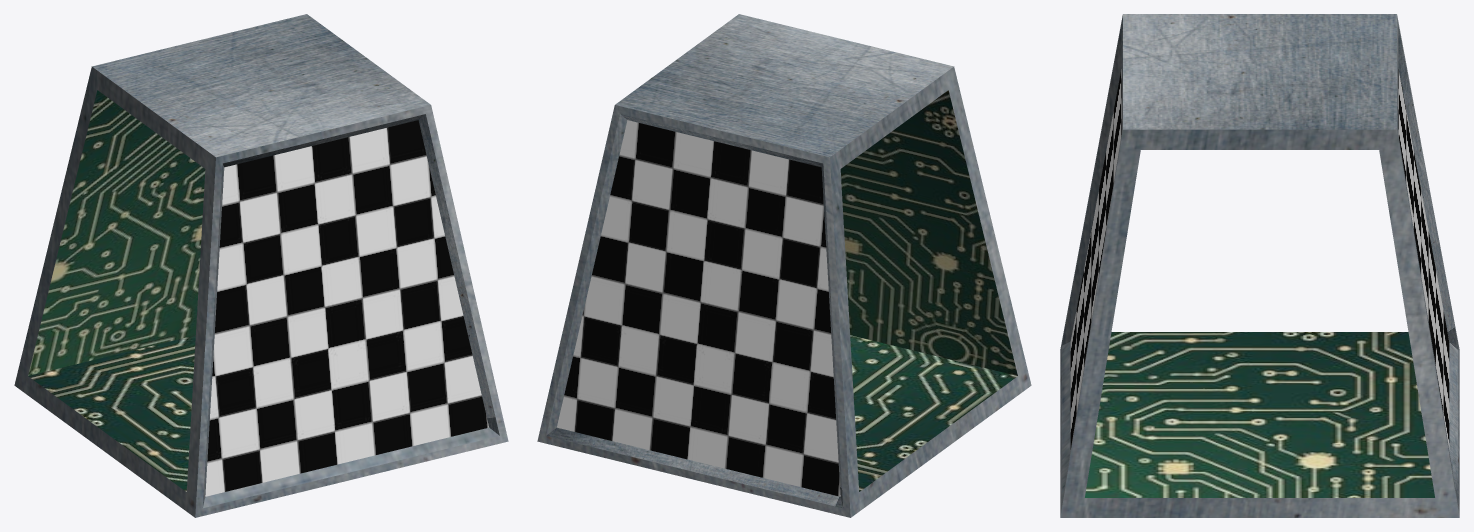
The model's file is finish.glb.
3 views of the same model, side by side, from view 1: azimuth 30°, elevation 25°; view 2: azimuth 150°, elevation 25°; view 3: azimuth 270°, elevation 25° (orthographic). The views are drawn at different scales.
Parts seen in each view (by area): view 1: Cube; view 2: Cube; view 3: Cube.
Part boxes in pixels (<box>): Cube: <box>14,14,508,517</box>; Cube: <box>537,14,1031,517</box>; Cube: <box>1060,14,1459,517</box>.
Size of the model in its own units: 2 by 2 by 2.
1 material, 1 textured.
